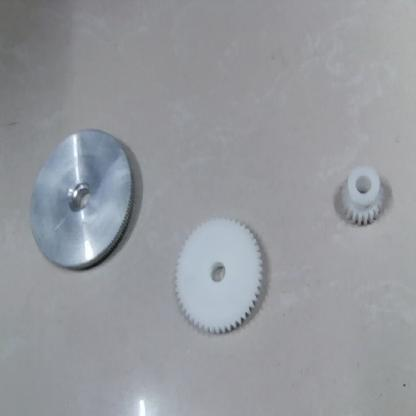FOD: (32, 126, 142, 274), (174, 214, 274, 336), (332, 162, 402, 231)
